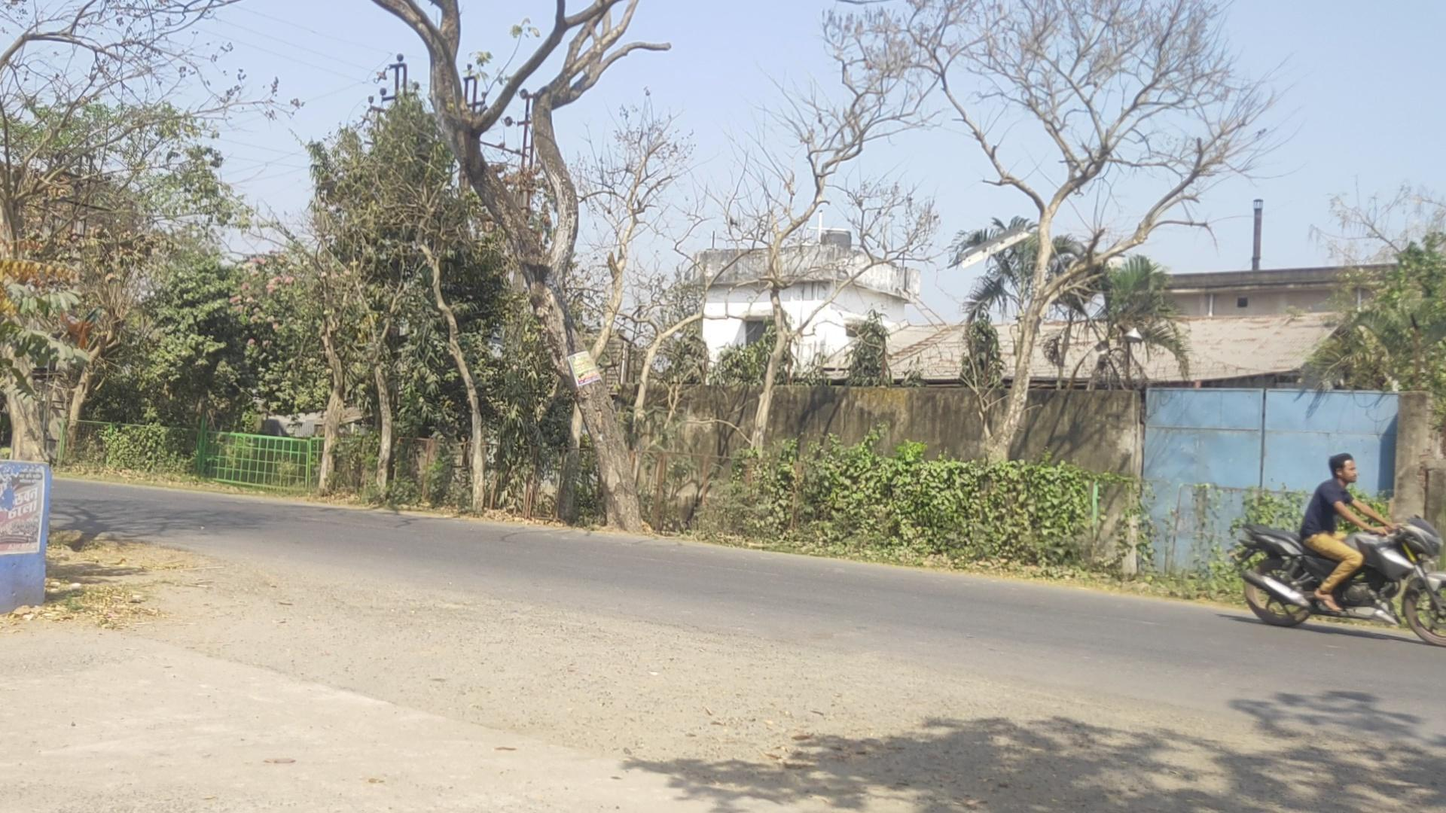bike: (1237, 453, 1446, 647)
